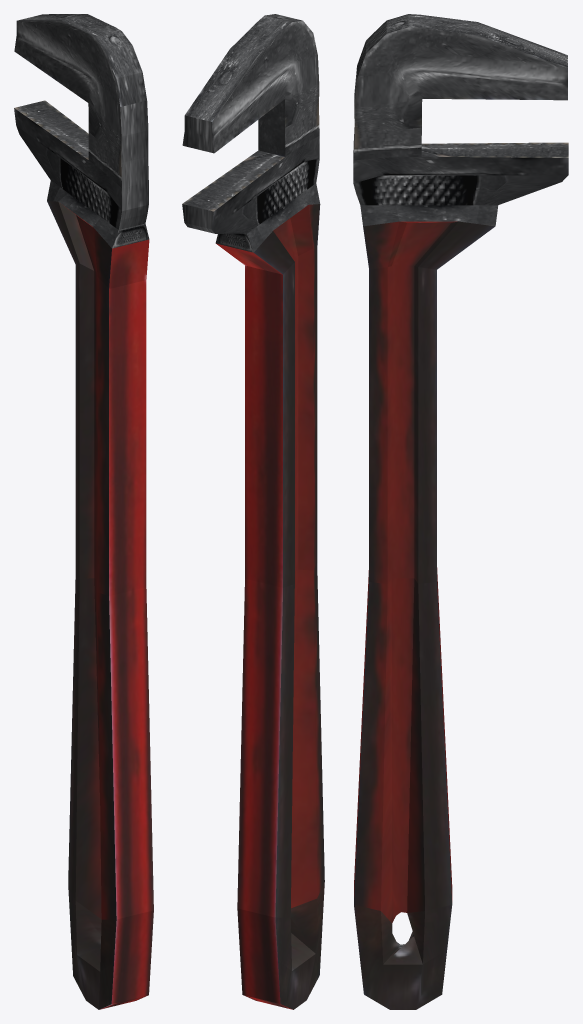
File: pipewrench.fbx
3 renders of one model, left to right at view 1: azimuth 30°, elevation 25°; view 2: azimuth 150°, elevation 25°; view 3: azimuth 270°, elevation 25°, orthographic.
Parts seen in each view (by area): view 1: Cube; view 2: Cube; view 3: Cube.
Boxes of the visible parts, left/top/right/bottom form: Cube: left=14, top=14, right=153, bottom=1009; Cube: left=182, top=14, right=324, bottom=1009; Cube: left=353, top=14, right=568, bottom=1009.
Size of the model in its own units: 0.0149 by 0.0609 by 0.3059.
